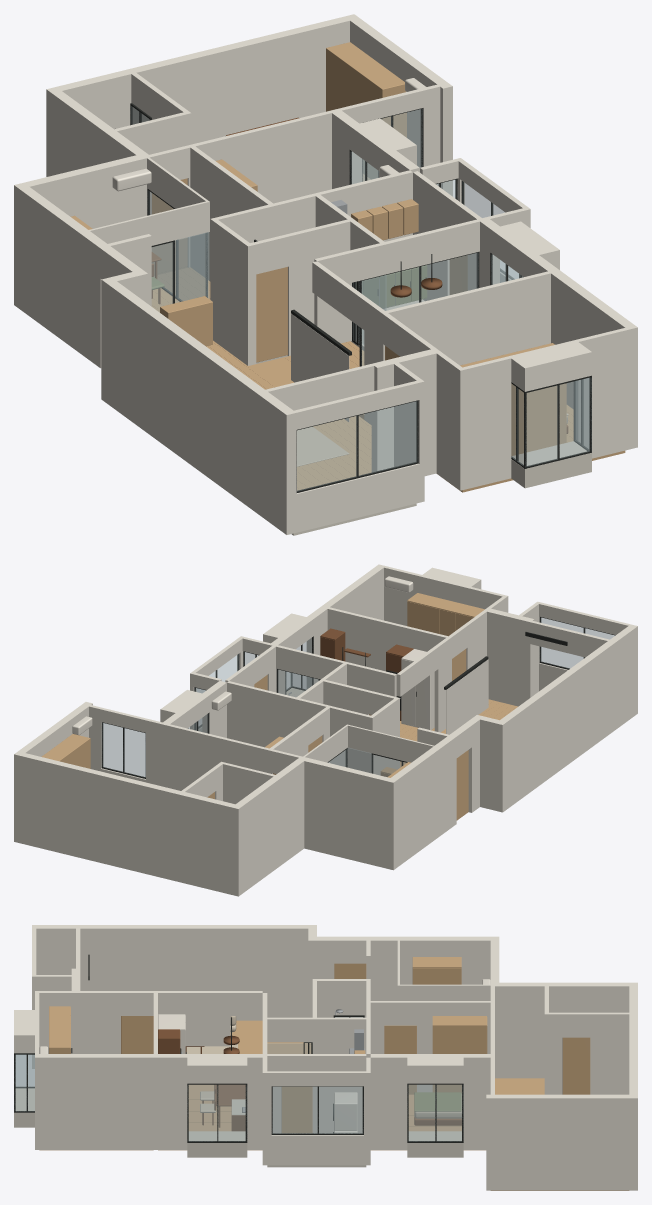
Rendered from whole_home.glb.
3 views of the same model, one above another, from view 1: azimuth 30°, elevation 25°; view 2: azimuth 150°, elevation 25°; view 3: azimuth 270°, elevation 25° (orthographic). The views are drawn at different scales.
Parts seen in each view (by area): view 1: wall_living_west_0, wall_A_north_0, wall_family_west_0, wall_CD_0, wall_A_south1_0, balconyA_south_glass, wall_family_north_0, wall_D_south1_0, wall_bath_kitchen_north_0, wall_D_south2_0, balconyA_south_sill, wall_bath_west_0 (+51 smaller); view 2: wall_A_north_0, wall_living_west_0, wall_family_north_0, wall_A_west_0, wall_family_west_0, wall_bath_kitchen_north_0, wall_A_south1_0, wall_balconyA_head2_0, wall_CD_0, wall_entry_step_0, screen_fabric, A_window_glass (+38 smaller); view 3: wall_living_west_0, wall_A_east_0, wall_D_east_0, wall_A_west_0, wall_family_west_0, balconyB_east_glass, wall_D_west2_0, wall_B_east2_0, C_bay_east_glass, wall_master_bath_east1_0, B_bay_east_glass, balconyB_east_sill (+55 smaller).
Part boxes in pixels (<box>): wall_living_west_0: <box>107,281,296,534</box>; wall_A_north_0: <box>46,14,358,176</box>; wall_family_west_0: <box>19,187,109,368</box>; wall_CD_0: <box>380,269,560,365</box>; wall_A_south1_0: <box>186,103,361,267</box>; balconyA_south_glass: <box>297,401,417,491</box>; wall_family_north_0: <box>14,154,151,308</box>; wall_D_south1_0: <box>463,356,511,489</box>; wall_bath_kitchen_north_0: <box>210,170,412,340</box>; wall_D_south2_0: <box>576,328,628,458</box>; balconyA_south_sill: <box>296,463,419,532</box>; wall_bath_west_0: <box>213,220,252,365</box>; wall_A_north_0: <box>14,753,242,896</box>; wall_living_west_0: <box>500,624,637,808</box>; wall_family_north_0: <box>299,756,397,870</box>; wall_A_west_0: <box>234,758,305,893</box>; wall_family_west_0: <box>391,735,456,866</box>; wall_bath_kitchen_north_0: <box>227,681,374,773</box>; wall_A_south1_0: <box>146,719,273,790</box>; wall_balconyA_head2_0: <box>487,608,534,706</box>; wall_CD_0: <box>321,605,451,671</box>; wall_entry_step_0: <box>475,715,506,812</box>; screen_fabric: <box>446,659,488,734</box>; A_window_glass: <box>102,723,145,777</box>; wall_living_west_0: <box>32,925,308,1020</box>; wall_A_east_0: <box>486,1094,633,1190</box>; wall_D_east_0: <box>35,1054,153,1149</box>; wall_A_west_0: <box>495,982,633,1078</box>; wall_family_west_0: <box>366,936,490,1000</box>; balconyB_east_glass: <box>272,1086,362,1133</box>; wall_D_west2_0: <box>35,991,120,1053</box>; wall_B_east2_0: <box>370,1054,407,1149</box>; C_bay_east_glass: <box>188,1084,245,1141</box>; wall_master_bath_east1_0: <box>590,1012,633,1094</box>; B_bay_east_glass: <box>408,1084,461,1141</box>; balconyB_east_sill: <box>271,1135,363,1165</box>.
Bounding box in the file's own units: 11.27 × 2.92 × 17.16.
